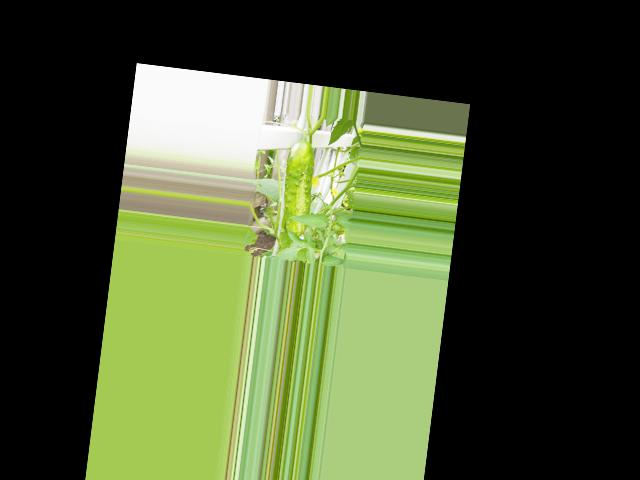cucumber: (278, 138, 317, 236)
